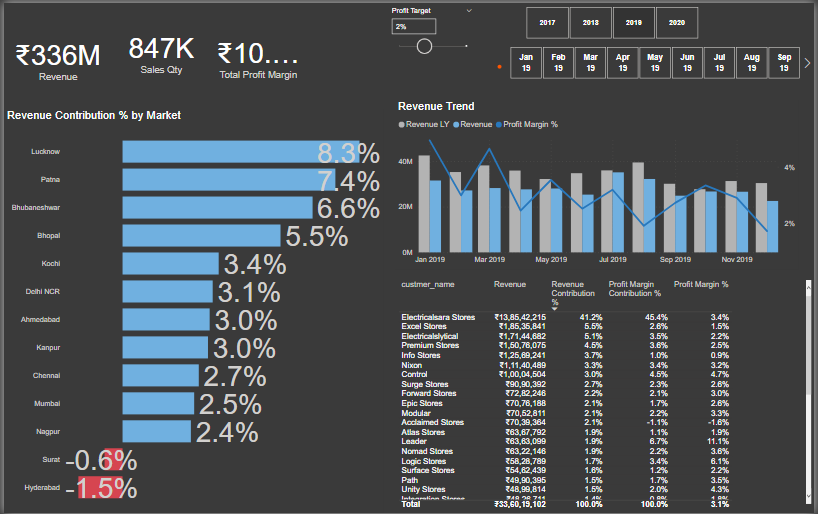

The dashboard page shown, as its layout file describes it:
{"tool":"powerbi","page":{"name":"Profit Analysis","canvas":[1350,850],"ordinal":1},"visuals":[{"type":"card","fields":{"Values":["BaseMeasures (2).Revenue"]},"box":[0,0,179.6,184.8],"z":0},{"type":"card","fields":{"Values":["BaseMeasures (2).Sales Qty"]},"box":[179.6,0,164.1,193],"z":1000},{"type":"barChart","title":"Profit % by market","fields":{"Y":["BaseMeasures (2).Profit Margin %"],"Category":["sales markets.markets_name"]},"box":[464.5,184.8,230.2,664.8],"z":2000},{"type":"barChart","title":"Profit Contribution % by Market","fields":{"Y":["BaseMeasures (2).Profit Margin Contribution %"],"Category":["sales markets.markets_name"]},"box":[221.9,185.8,208.5,659.6],"z":3000},{"type":"slicer","fields":{"Values":["sales date.year"]},"box":[483.2,0,335.5,66.5],"z":4000},{"type":"slicer","fields":{"Values":["sales date.cy_date"]},"box":[818.6,0,531.7,66.5],"z":5000},{"type":"tableEx","title":"Top 5 Customers","fields":{"Values":["sales customers.custmer_name","BaseMeasures (2).Revenue","BaseMeasures (2).Revenue Contribution %","BaseMeasures (2).Profit Margin Contribution %","BaseMeasures (2).Profit Margin %"]},"box":[701.9,454.2,648.3,395.4],"z":6000},{"type":"lineChart","title":"Revenue Trend","fields":{"Y":["BaseMeasures (2).Revenue"],"Category":["sales date.cy_date"]},"box":[701.9,104.3,621.4,338.6],"z":7000},{"type":"card","fields":{"Values":["BaseMeasures (2).Total Profit Margin"]},"box":[349.9,0,161,176.5],"z":8000},{"type":"barChart","title":"Revenue Contribution % by Market","fields":{"Y":["BaseMeasures (2).Revenue Contribution %"],"Category":["sales markets.markets_name"]},"box":[0,185.8,219.9,654.5],"z":9000}]}

Visuals, with their boxes in screenshot pixels (x1, y1, x2, y2), scaled from the page's 1350x850 canvas onto the 818x514 screenshot:
card - BaseMeasures (2).Revenue: [0,0,109,112]
card - BaseMeasures (2).Sales Qty: [109,0,208,117]
"Profit % by market" barChart: [281,112,421,513]
"Profit Contribution % by Market" barChart: [134,112,261,511]
slicer - sales date.year: [293,0,496,40]
slicer - sales date.cy_date: [496,0,817,40]
"Top 5 Customers" tableEx: [425,275,817,513]
"Revenue Trend" lineChart: [425,63,802,268]
card - BaseMeasures (2).Total Profit Margin: [212,0,310,107]
"Revenue Contribution % by Market" barChart: [0,112,133,508]
